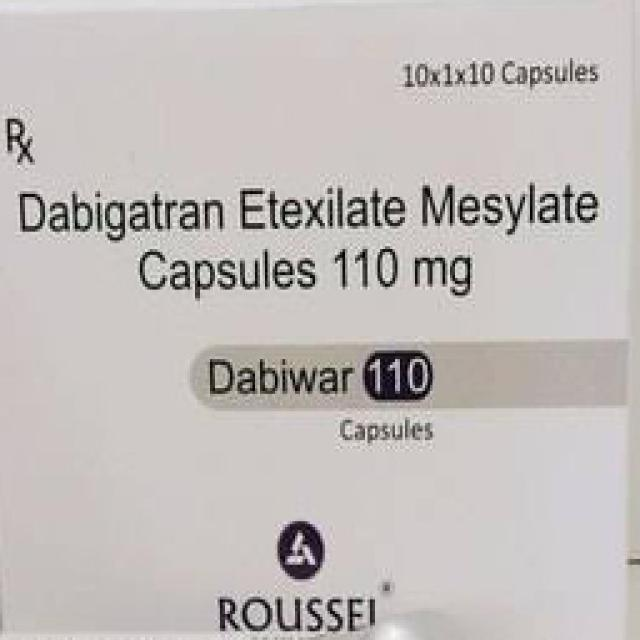drug-name: (211, 353, 434, 399)
